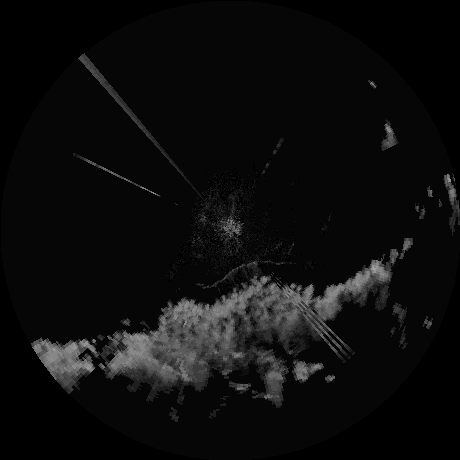frontgust: (201, 260, 279, 290)
